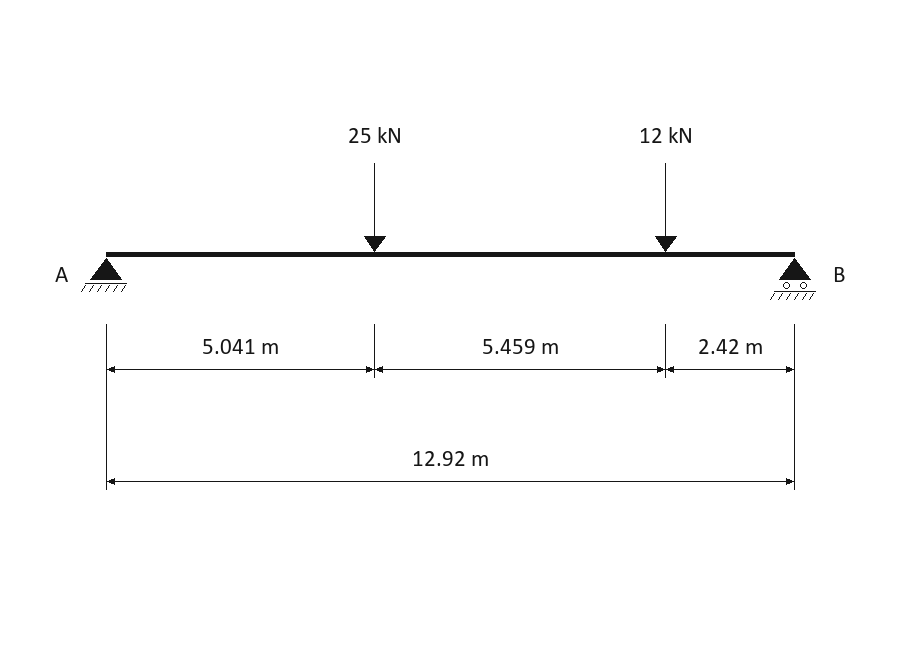pin_support: (81, 258, 127, 292)
point_load: (364, 163, 386, 252), (655, 163, 677, 252)
roller_support: (770, 258, 816, 300)
